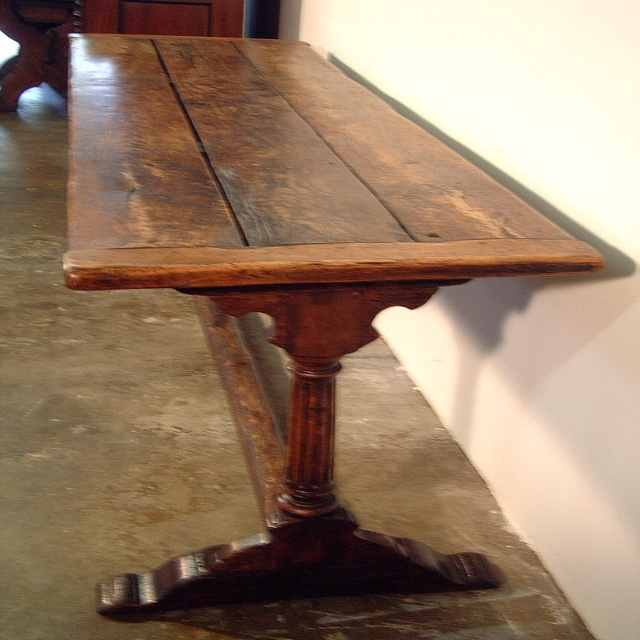obstacle: (64, 34, 600, 614)
